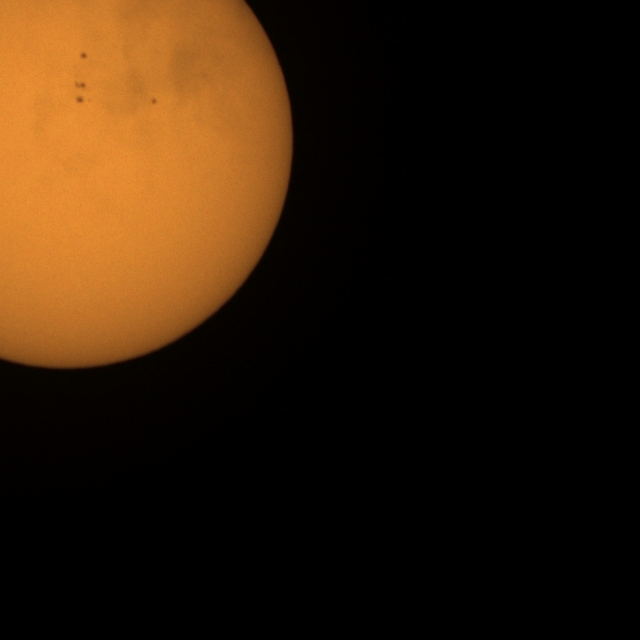sunspot: (23, 241, 60, 267), (44, 158, 70, 184), (72, 81, 92, 106), (74, 80, 88, 95), (79, 51, 88, 60), (150, 97, 158, 106)
